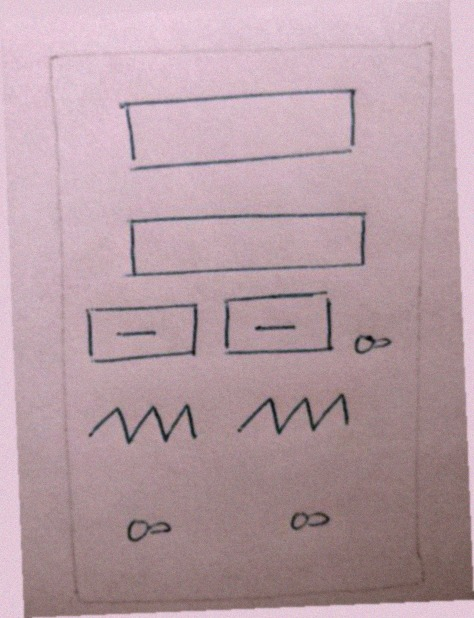button: (215, 289, 346, 364), (80, 295, 205, 368)
switch: (108, 504, 192, 550), (277, 501, 341, 547), (340, 324, 403, 365)
text: (223, 382, 367, 450), (83, 390, 205, 453)
text_input: (108, 83, 370, 176), (115, 198, 371, 287)
